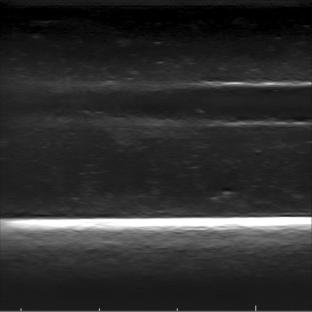vessel: (167, 79, 311, 130)
